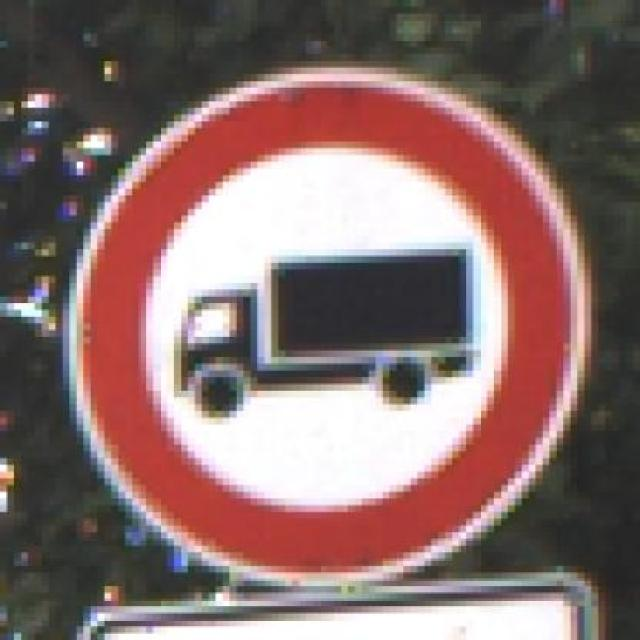Truck traffic is prohibited: (62, 60, 606, 586)
